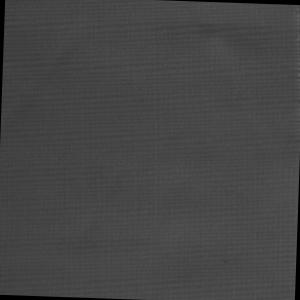Wrinkle: (169, 2, 285, 136), (1, 11, 99, 153)
